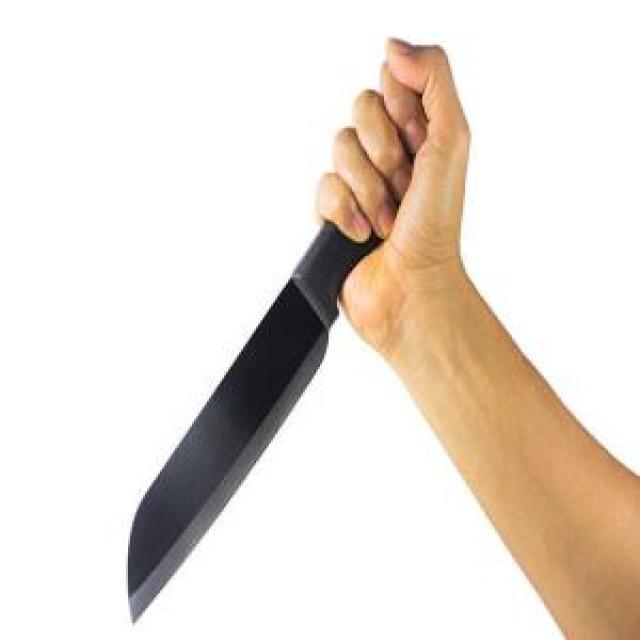knife: (104, 47, 458, 627)
